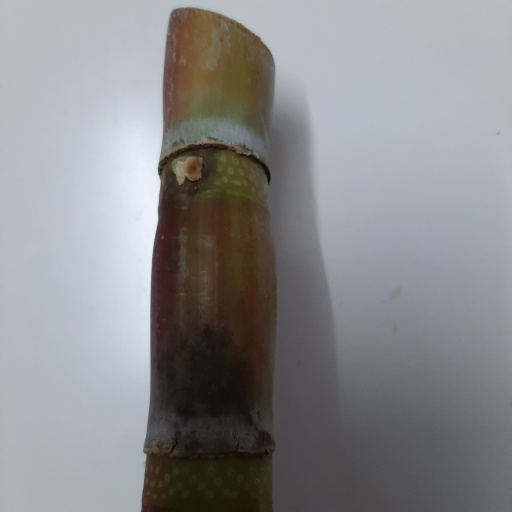Damage_Bud: (184, 156, 204, 180)
